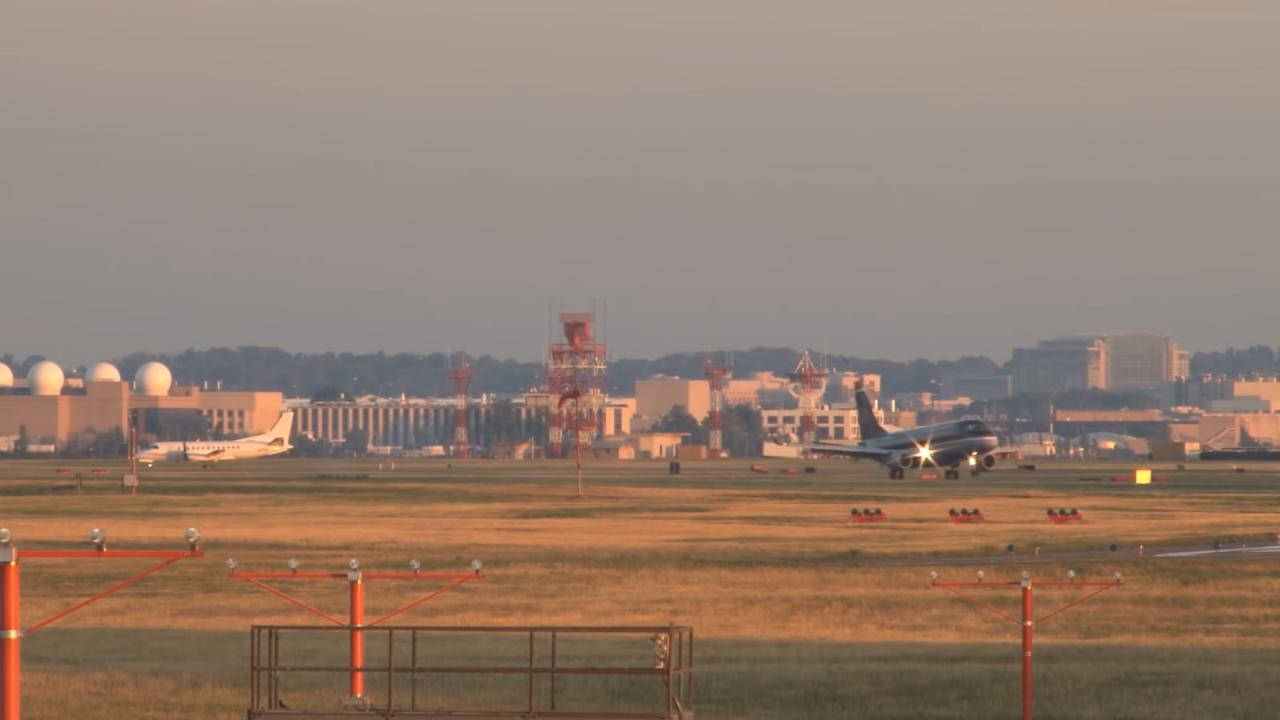Airplane: (794, 380, 1022, 489), (122, 400, 307, 476)
